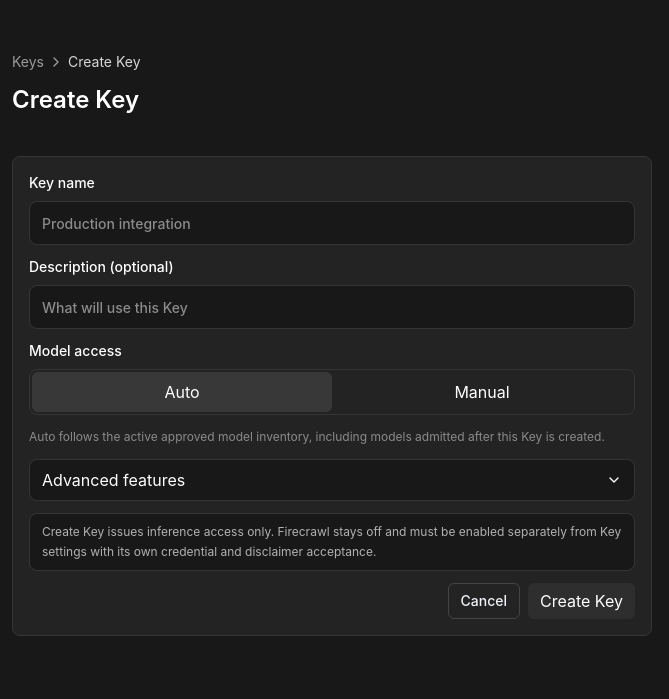
Scenario: Keys experience › defaults to dynamic Auto and keeps Advanced features collapsed
Expected: the checkbox labelled "stable-chat-alias" is not shown
Click the button "Manual" at [482, 392], box [332, 372, 632, 412]
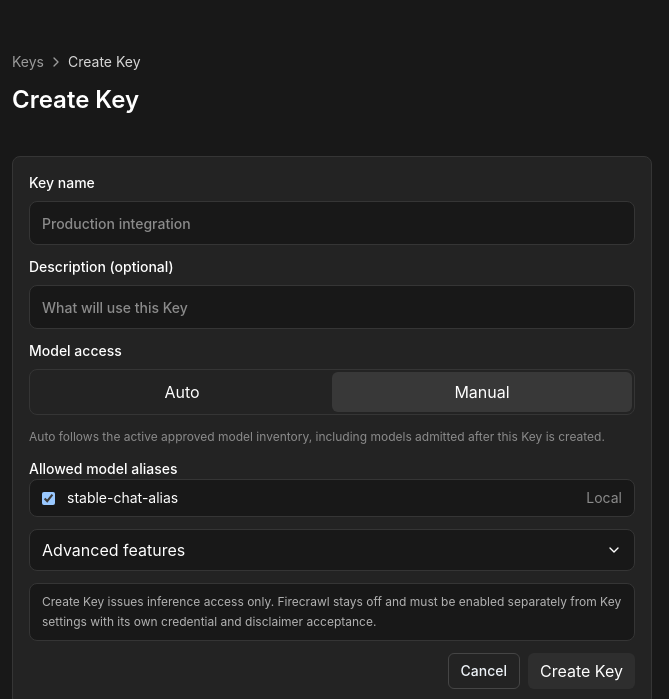
Expected: the checkbox labelled "stable-chat-alias" holds "stable-chat-alias", [42, 492, 55, 504]
Expected: the checkbox labelled "stable-chat-alias" does not hold "litellm-internal-model-id", [42, 492, 55, 504]
Expected: the checkbox labelled "stable-chat-alias" is checked, [42, 492, 55, 504]
Click the button "Advanced features" at [114, 550], box [29, 529, 635, 571]
(page scrolled)
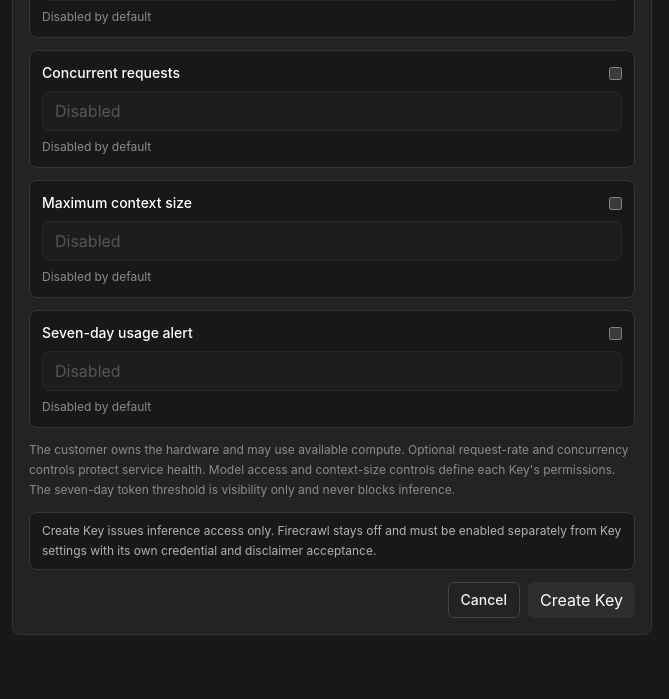
Expected: the checkbox labelled "Concurrent requests" is not checked, [609, 66, 622, 80]
Expected: the checkbox labelled "Maximum context size" is not checked, [609, 196, 622, 210]
Expected: the checkbox labelled "Seven-day usage alert" is not checked, [609, 326, 622, 340]
